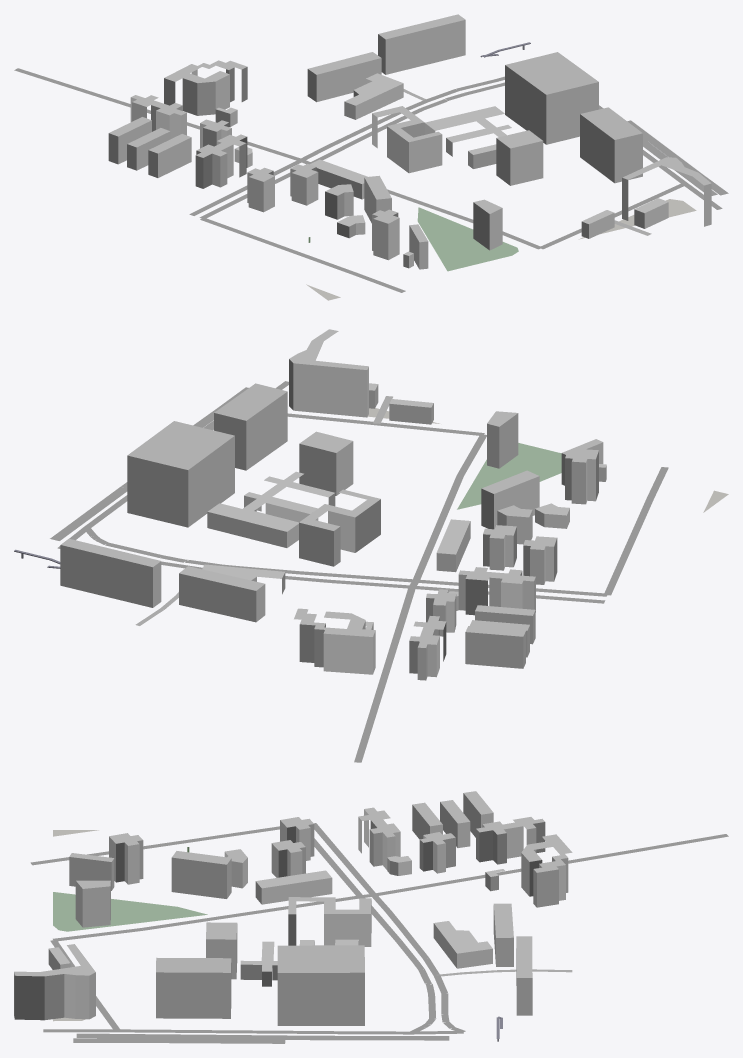
3 views of the same model, one above another, from view 1: azimuth 30°, elevation 25°; view 2: azimuth 150°, elevation 25°; view 3: azimuth 270°, elevation 25° (orthographic). The views are drawn at different scales.
Bounding box in the file's own units: 529 × 60.31 × 713.
